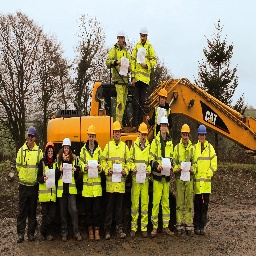helmet: (26, 125, 38, 143), (137, 24, 150, 40), (44, 139, 56, 156), (86, 123, 99, 137), (158, 115, 170, 128), (137, 123, 150, 135), (158, 88, 169, 100), (180, 123, 191, 135), (112, 121, 123, 132), (62, 138, 73, 148), (198, 125, 207, 137), (117, 30, 126, 42)
person: (15, 123, 42, 245), (105, 118, 129, 242), (174, 117, 198, 240), (150, 115, 174, 237), (81, 123, 105, 245), (128, 120, 151, 244), (193, 123, 218, 237), (132, 26, 157, 132), (57, 135, 81, 243), (108, 29, 131, 126), (41, 139, 57, 241)
vest: (151, 134, 174, 188), (128, 135, 152, 186), (15, 144, 41, 191), (81, 146, 104, 198), (104, 142, 126, 194), (194, 142, 215, 196), (173, 136, 195, 186), (108, 46, 134, 87), (131, 41, 154, 86), (38, 157, 58, 205), (58, 154, 77, 202)
